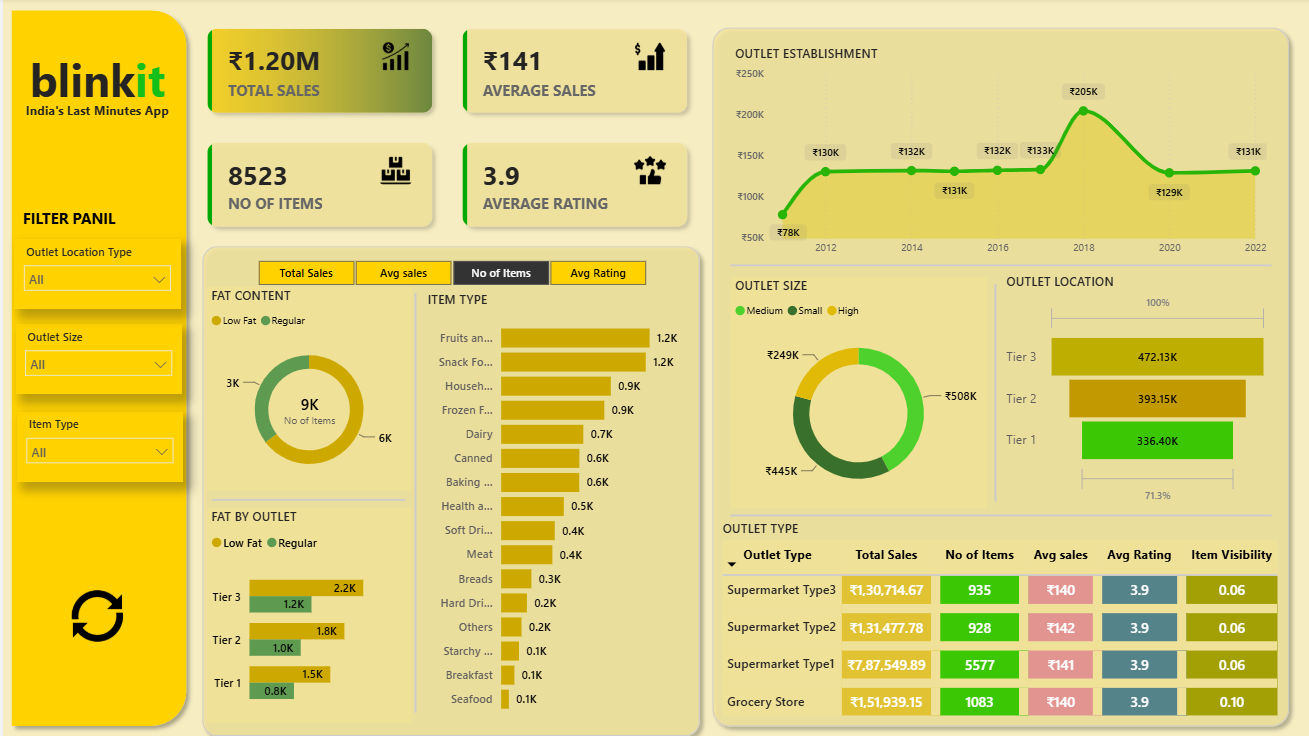

This screenshot's page, from the dashboard's own definition file:
{"tool":"powerbi","page":{"name":"Page 1","canvas":[1400,800],"ordinal":0},"visuals":[{"type":"shape","box":[0,4.3,205.7,785.7],"z":0},{"type":"textbox","box":[12,49.5,178.6,78],"z":1000},{"type":"textbox","box":[12.1,105.9,178.3,29.5],"z":2000},{"type":"cardVisual","fields":{"Data":["BlinkIT Grocery Data.Total Sales","BlinkIT Grocery Data.Avg sales","BlinkIT Grocery Data.No of Items","BlinkIT Grocery Data.Avg Rating"]},"box":[190,4.3,572.9,271.4],"z":3000},{"type":"shape","box":[205.1,257.4,550.9,542.9],"z":4000},{"type":"donutChart","title":"FAT CONTENT","fields":{"Y":["BlinkIT Grocery Data.No of Items"],"Category":["BlinkIT Grocery Data.Item Fat Content"]},"box":[218.5,309.7,219.8,218.5],"z":5000},{"type":"slicer","fields":{"Values":["metrics.metrics"]},"box":[248.6,274.3,465.7,40],"z":6000},{"type":"cardVisual","fields":{"Data":["BlinkIT Grocery Data.No of Items"]},"box":[270.8,407.5,116.6,69.7],"z":7000},{"type":"clusteredBarChart","title":"FAT BY OUTLET","fields":{"Y":["BlinkIT Grocery Data.No of Items"],"Category":["BlinkIT Grocery Data.Outlet Location Type"],"Series":["BlinkIT Grocery Data.Item Fat Content"]},"box":[218.5,546.9,219.8,230.6],"z":8000},{"type":"shape","box":[223.9,530.8,207.8,14.7],"z":9000},{"type":"shape","box":[431.4,315.7,21.4,450],"z":10000},{"type":"barChart","title":"ITEM TYPE","fields":{"Y":["BlinkIT Grocery Data.No of Items"],"Category":["BlinkIT Grocery Data.Item Type"]},"box":[450,314.3,282.9,464.3],"z":11000},{"type":"shape","box":[751.4,22.9,635.7,767.1],"z":12000},{"type":"lineChart","title":"OUTLET ESTABLISHMENT","fields":{"Category":["BlinkIT Grocery Data.Outlet Establishment Year"],"Y":["BlinkIT Grocery Data.Total Sales"]},"box":[780,50,580,235.7],"z":13000},{"type":"shape","box":[780,278.6,580,15.7],"z":14000},{"type":"donutChart","title":"OUTLET SIZE","fields":{"Y":["BlinkIT Grocery Data.Total Sales"],"Category":["BlinkIT Grocery Data.Outlet Size"]},"box":[780.2,298.9,274.8,248],"z":15000},{"type":"shape","box":[1057.6,307,13.4,233.2],"z":16000},{"type":"funnel","title":"OUTLET LOCATION","fields":{"Y":["Sum(BlinkIT Grocery Data.Sales)"],"Category":["BlinkIT Grocery Data.Outlet Location Type"]},"box":[1071.1,294.9,290.9,252],"z":17000},{"type":"shape","box":[780.2,546.9,580.4,16.1],"z":18000},{"type":"pivotTable","title":"OUTLET TYPE","fields":{"Values":["BlinkIT Grocery Data.Total Sales","BlinkIT Grocery Data.No of Items","BlinkIT Grocery Data.Avg sales","BlinkIT Grocery Data.Avg Rating","Avg(BlinkIT Grocery Data.Item Visibility)"],"Rows":["BlinkIT Grocery Data.Outlet Type"]},"box":[766.8,559,605.9,218.5],"z":19000},{"type":"slicer","fields":{"Values":["BlinkIT Grocery Data.Outlet Location Type"]},"box":[12.1,258.7,178.3,75.1],"z":20000},{"type":"slicer","fields":{"Values":["BlinkIT Grocery Data.Outlet Size"]},"box":[13.4,349.9,178.3,75.1],"z":21000},{"type":"slicer","fields":{"Values":["BlinkIT Grocery Data.Item Type"]},"box":[14.7,443.7,178.3,75.1],"z":22000},{"type":"textbox","box":[16.1,219.8,109.9,38.9],"z":23000},{"type":"image","box":[57.1,632.9,87.1,60],"z":24000,"group":"g1"},{"type":"actionButton","box":[69.4,633.1,62.5,59.7],"z":25000,"group":"g1"},{"type":"group","id":"g1","title":"Group 1","box":[57.1,632.9,87.1,60],"z":25001}]}

Visuals, with their boxes in screenshot pixels (x1, y1, x2, y2), scaled from the page's 1400x800 canvas onto the 1309x736 screenshot:
shape: {"x1": 0, "y1": 4, "x2": 192, "y2": 727}
textbox: {"x1": 11, "y1": 46, "x2": 178, "y2": 117}
textbox: {"x1": 11, "y1": 97, "x2": 178, "y2": 125}
cardVisual - BlinkIT Grocery Data.Total Sales x BlinkIT Grocery Data.Avg sales: {"x1": 178, "y1": 4, "x2": 713, "y2": 254}
shape: {"x1": 192, "y1": 237, "x2": 707, "y2": 735}
"FAT CONTENT" donutChart: {"x1": 204, "y1": 285, "x2": 410, "y2": 486}
slicer - metrics.metrics: {"x1": 232, "y1": 252, "x2": 668, "y2": 289}
cardVisual - BlinkIT Grocery Data.No of Items: {"x1": 253, "y1": 375, "x2": 362, "y2": 439}
"FAT BY OUTLET" clusteredBarChart: {"x1": 204, "y1": 503, "x2": 410, "y2": 715}
shape: {"x1": 209, "y1": 488, "x2": 404, "y2": 502}
shape: {"x1": 403, "y1": 290, "x2": 423, "y2": 704}
"ITEM TYPE" barChart: {"x1": 421, "y1": 289, "x2": 685, "y2": 716}
shape: {"x1": 703, "y1": 21, "x2": 1297, "y2": 727}
"OUTLET ESTABLISHMENT" lineChart: {"x1": 729, "y1": 46, "x2": 1272, "y2": 263}
shape: {"x1": 729, "y1": 256, "x2": 1272, "y2": 271}
"OUTLET SIZE" donutChart: {"x1": 729, "y1": 275, "x2": 986, "y2": 503}
shape: {"x1": 989, "y1": 282, "x2": 1001, "y2": 497}
"OUTLET LOCATION" funnel: {"x1": 1001, "y1": 271, "x2": 1273, "y2": 503}
shape: {"x1": 729, "y1": 503, "x2": 1272, "y2": 518}
"OUTLET TYPE" pivotTable: {"x1": 717, "y1": 514, "x2": 1283, "y2": 715}
slicer - BlinkIT Grocery Data.Outlet Location Type: {"x1": 11, "y1": 238, "x2": 178, "y2": 307}
slicer - BlinkIT Grocery Data.Outlet Size: {"x1": 13, "y1": 322, "x2": 179, "y2": 391}
slicer - BlinkIT Grocery Data.Item Type: {"x1": 14, "y1": 408, "x2": 180, "y2": 477}
textbox: {"x1": 15, "y1": 202, "x2": 118, "y2": 238}
image: {"x1": 53, "y1": 582, "x2": 135, "y2": 637}
actionButton: {"x1": 65, "y1": 582, "x2": 123, "y2": 637}
"Group 1" group: {"x1": 53, "y1": 582, "x2": 135, "y2": 637}
